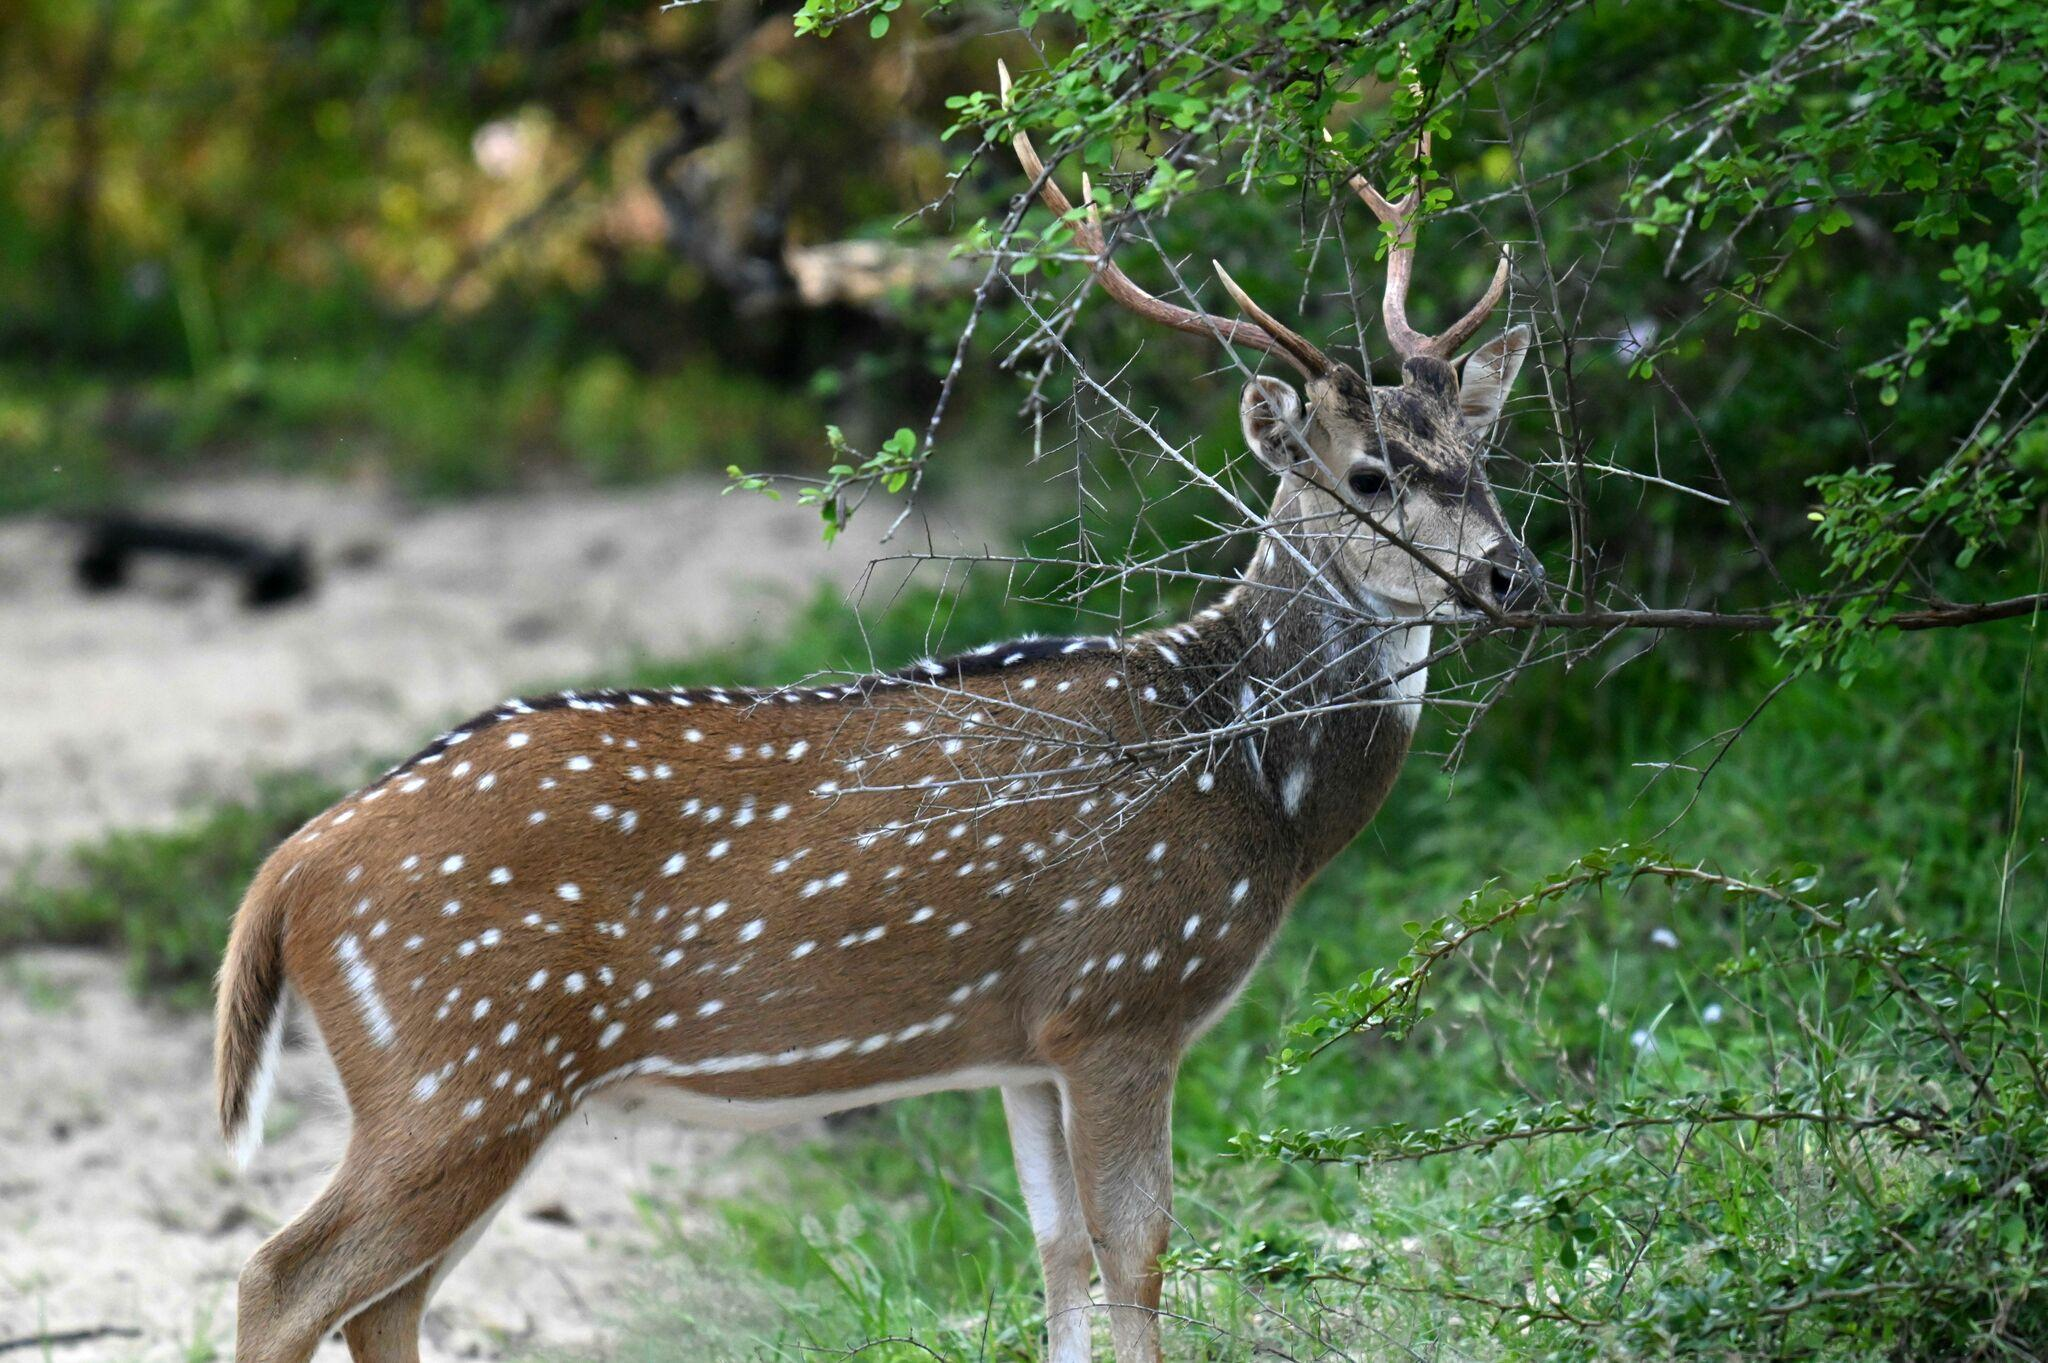Deer: (214, 176, 1543, 1358)
